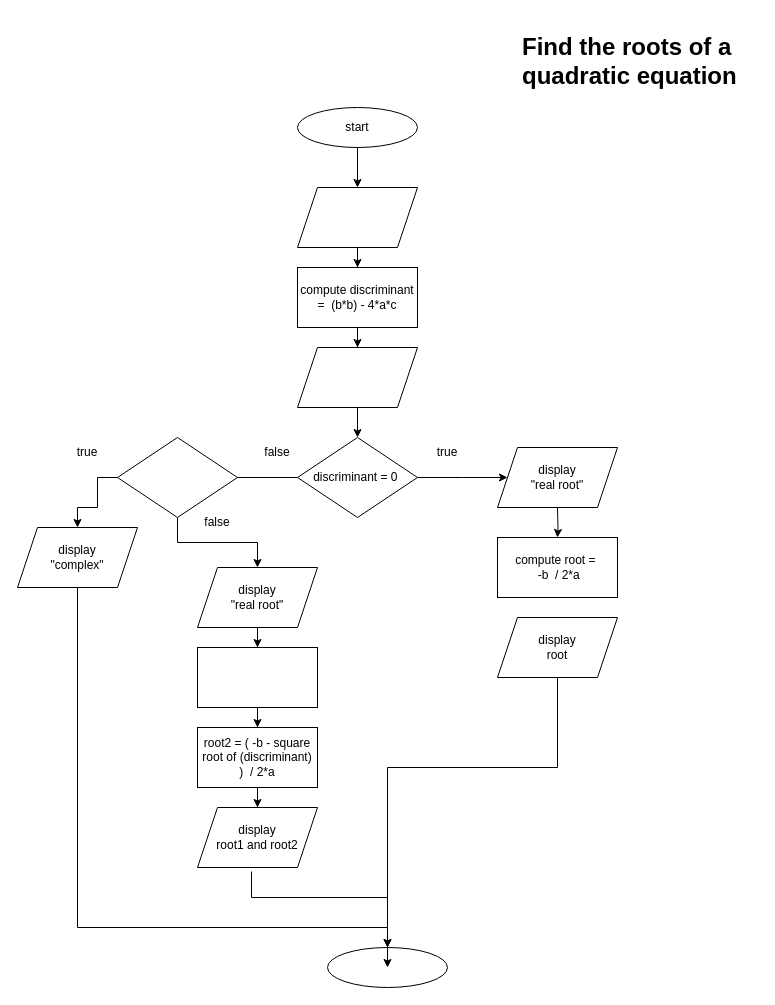
This 775x1005 diagram has some shape labels left out. Here are the shapes that lost their labels. From the top down, the box of each, then its label:
(296, 186, 418, 248): input a b c
(296, 346, 418, 408): display discriminant
(116, 436, 238, 518): discriminant < 0
(196, 646, 318, 708): root1 = ( -b + square root of (discriminant) ) / 2*a
(326, 946, 448, 988): end
